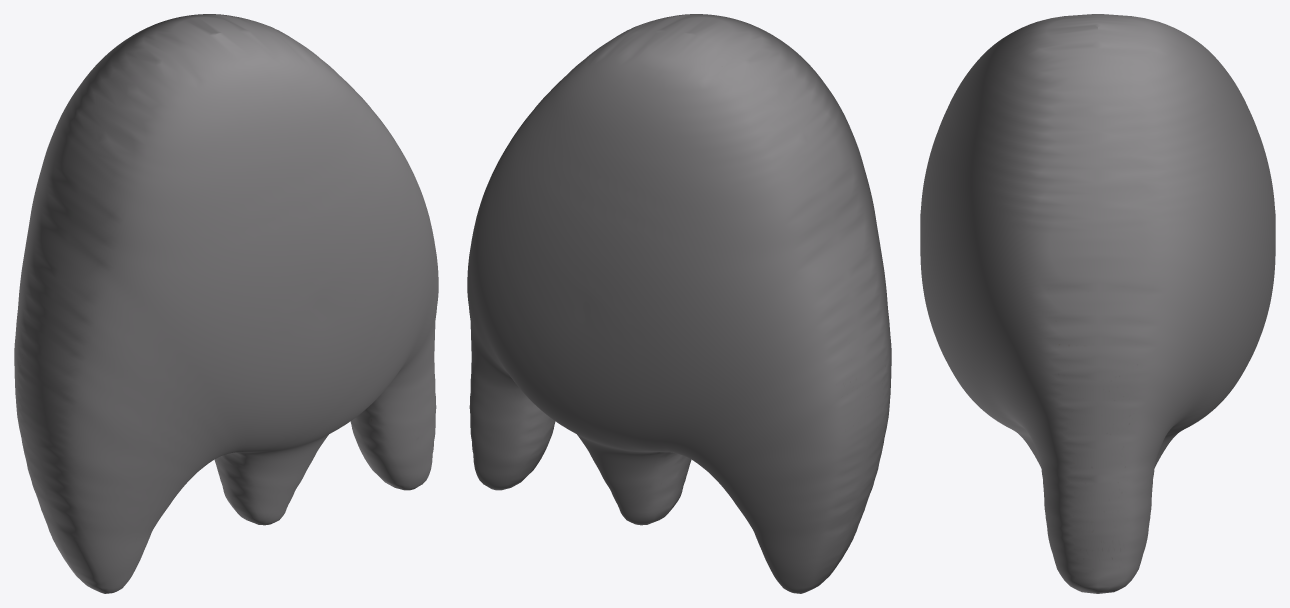
File: GreyGhost.fbx
3 renders of one model, left to right at view 1: azimuth 30°, elevation 25°; view 2: azimuth 150°, elevation 25°; view 3: azimuth 270°, elevation 25°, orthographic. The views are drawn at different scales.
Visible parts, largest first — view 1: root; view 2: root; view 3: root.
Boxes of the visible parts, <box> form: root: <box>14,14,438,593</box>; root: <box>467,14,891,593</box>; root: <box>920,14,1275,593</box>.
Size of the model in its own units: 0.4175 by 0.5454 by 0.3449.
Materials: 1 (1 with a texture image).
